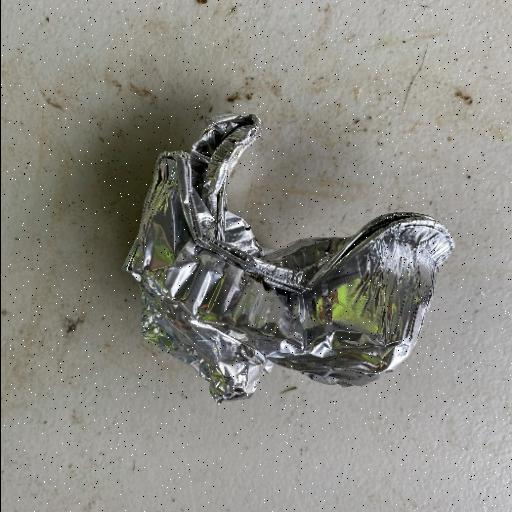Metal: (120, 110, 456, 406)
